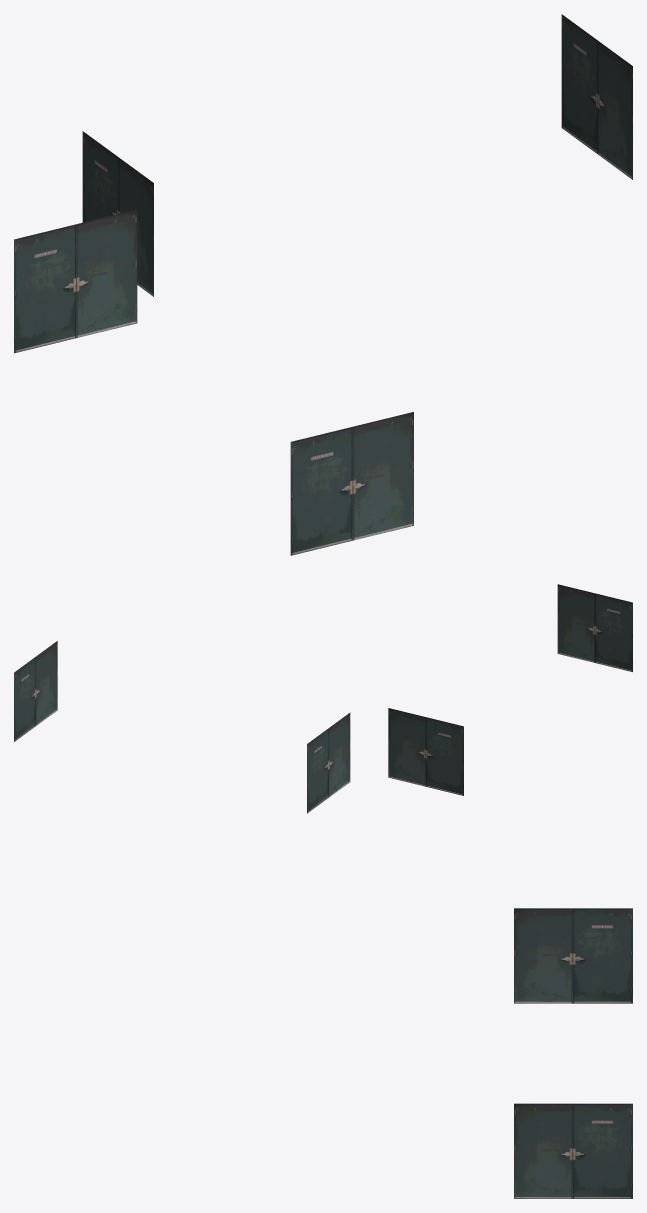
The model's file is warehousebrickc_id_8_doorsgreen_dm_0_lev1.glb.
The picture shows the model from 3 angles, top to bottom: view 1: azimuth 30°, elevation 25°; view 2: azimuth 150°, elevation 25°; view 3: azimuth 270°, elevation 25°; orthographic projection. The views are drawn at different scales.
Parts seen in each view (by area): view 1: warehousebrickc_id_8_doorsgreen_dm_0_lev1; view 2: warehousebrickc_id_8_doorsgreen_dm_0_lev1; view 3: warehousebrickc_id_8_doorsgreen_dm_0_lev1.
Boxes of the visible parts, x1,y1,x2,y2 form: warehousebrickc_id_8_doorsgreen_dm_0_lev1: [14, 14, 632, 555]; warehousebrickc_id_8_doorsgreen_dm_0_lev1: [14, 584, 632, 813]; warehousebrickc_id_8_doorsgreen_dm_0_lev1: [514, 908, 632, 1198].
Bounding box in the file's own units: 8.04 × 1.37 × 8.04.
Materials: 1 (1 with a texture image).
